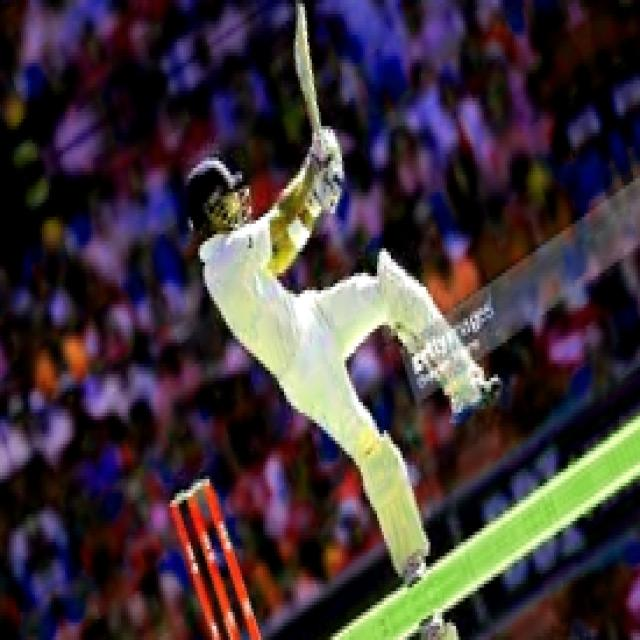toe: (293, 0, 311, 43)
